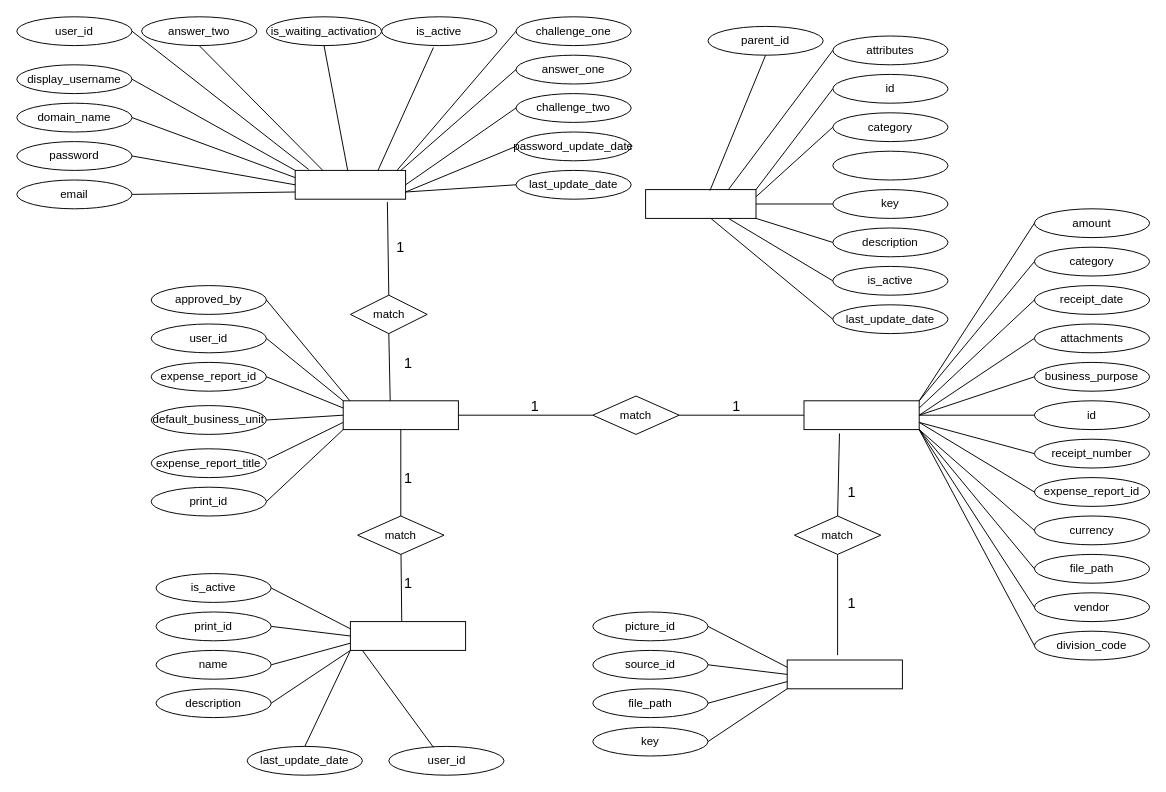
Some shapes in this 1166 by 792 pixel diagram are drawn without their labels. The shapes that lost their labels are listed below. From the top down, each one's centre as x and y in pixels, then its label:
(350,184): user
(890,165): display_key
(700,203): references
(400,415): expense_report
(861,415): expense_report_info
(407,635): expense_report_print
(844,674): picture
